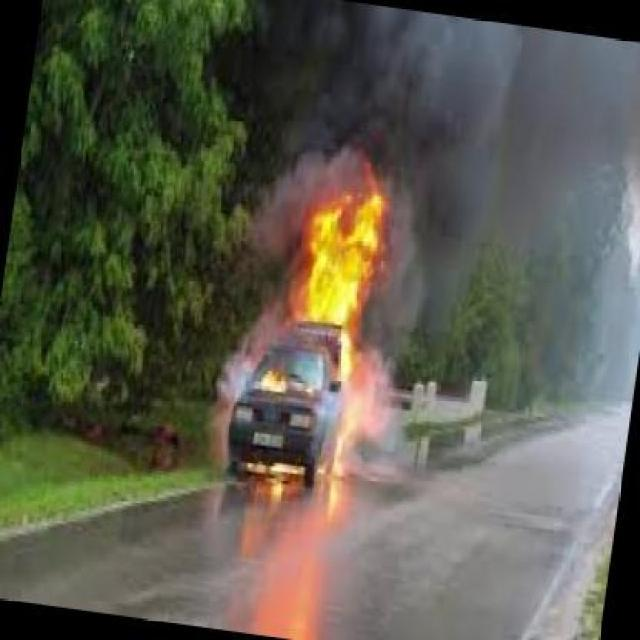Fire: (295, 191, 388, 331), (330, 336, 364, 500), (260, 371, 298, 413)
Smoke: (400, 19, 640, 342), (250, 4, 400, 184), (244, 192, 286, 270)
